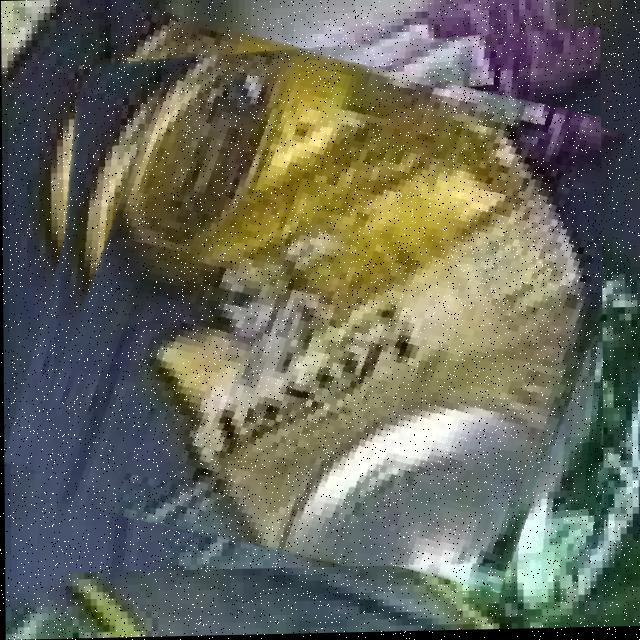can: (26, 26, 602, 573)
